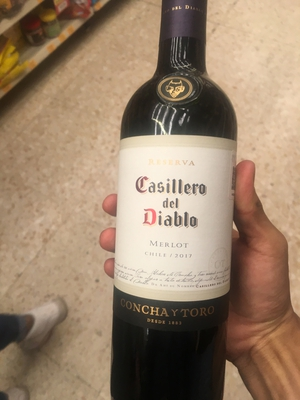casillero del diablo merlot: (109, 6, 239, 400)
